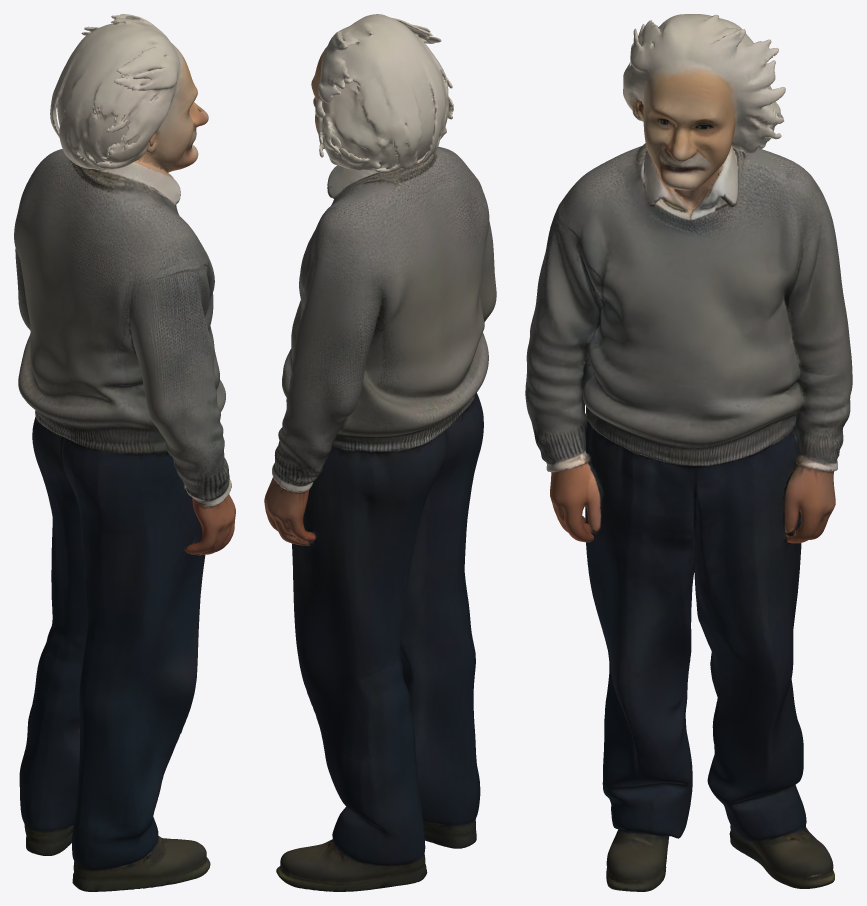
Rendered from albert-einstein.glb.
3 views of the same model, side by side, from view 1: azimuth 30°, elevation 25°; view 2: azimuth 150°, elevation 25°; view 3: azimuth 270°, elevation 25° (orthographic). The views are drawn at different scales.
Parts seen in each view (by area): view 1: tripo_node_e6a75355-0613-4b44-9f81-1aeca0583515; view 2: tripo_node_e6a75355-0613-4b44-9f81-1aeca0583515; view 3: tripo_node_e6a75355-0613-4b44-9f81-1aeca0583515.
Part boxes in pixels (x1,y1,x2,y2): tripo_node_e6a75355-0613-4b44-9f81-1aeca0583515: (14,14,235,891); tripo_node_e6a75355-0613-4b44-9f81-1aeca0583515: (264,14,496,891); tripo_node_e6a75355-0613-4b44-9f81-1aeca0583515: (525,14,852,891).
Bounding box in the file's own units: 0.2158 × 1 × 0.3466.
Materials: 1 (1 with a texture image).
